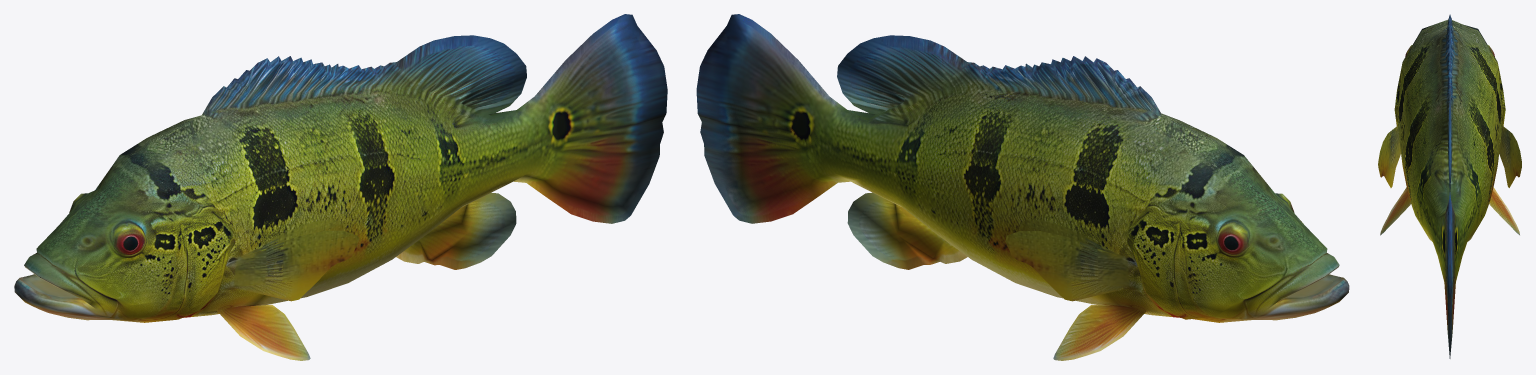
The model's file is peacock.glb.
The picture shows the model from 3 angles, left to right: view 1: azimuth 30°, elevation 25°; view 2: azimuth 150°, elevation 25°; view 3: azimuth 270°, elevation 25°; orthographic projection. The views are drawn at different scales.
Visible parts, largest first — view 1: tripo_node_b330563c-d614-424e-842b-208202c8f65e; view 2: tripo_node_b330563c-d614-424e-842b-208202c8f65e; view 3: tripo_node_b330563c-d614-424e-842b-208202c8f65e.
Part boxes in pixels (x1=…): tripo_node_b330563c-d614-424e-842b-208202c8f65e: x1=14, y1=14, x2=667, y2=360; tripo_node_b330563c-d614-424e-842b-208202c8f65e: x1=696, y1=14, x2=1349, y2=360; tripo_node_b330563c-d614-424e-842b-208202c8f65e: x1=1378, y1=14, x2=1521, y2=358.
Bounding box in the file's own units: 0.9995 × 0.3979 × 0.2373.
1 material, 1 textured.
